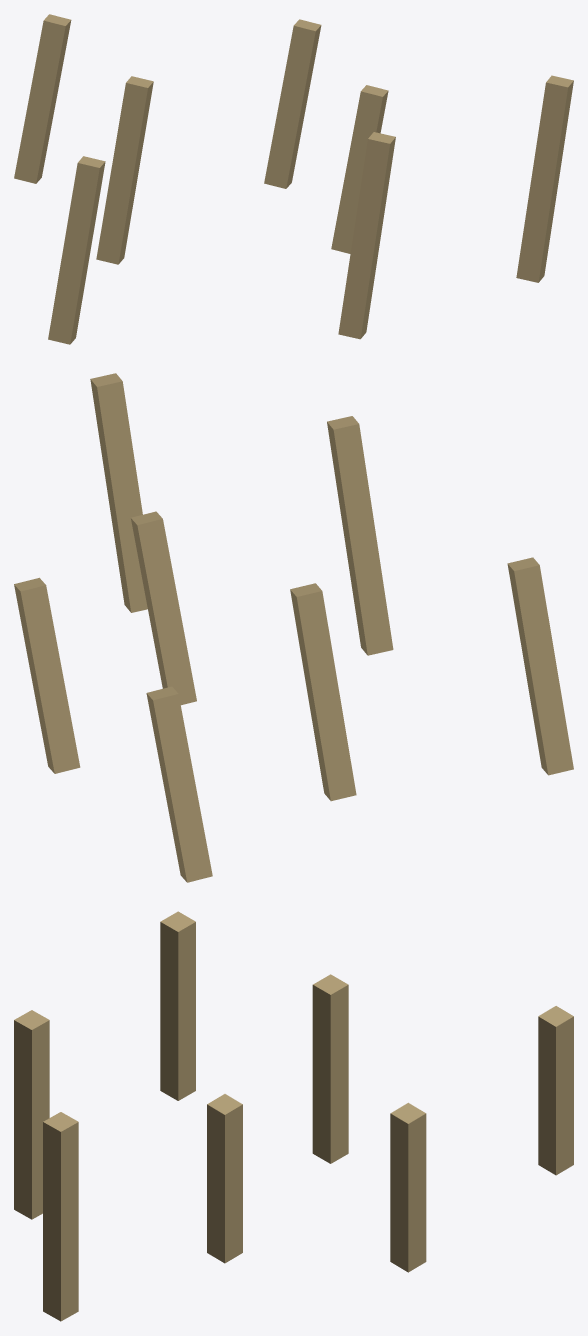
The model's file is crop_millet_spent.glb.
3 renders of one model, top to bottom at view 1: azimuth 30°, elevation 25°; view 2: azimuth 150°, elevation 25°; view 3: azimuth 270°, elevation 25°, orthographic. The views are drawn at different scales.
Visible parts, largest first — view 1: crop_millet_spent; view 2: crop_millet_spent; view 3: crop_millet_spent.
Part boxes in pixels (x1,y1,x2,y2): crop_millet_spent: (14,14,573,344); crop_millet_spent: (14,373,573,882); crop_millet_spent: (14,911,573,1321).
Bounding box in the file's own units: 0.3989 × 0.1564 × 0.3756.
